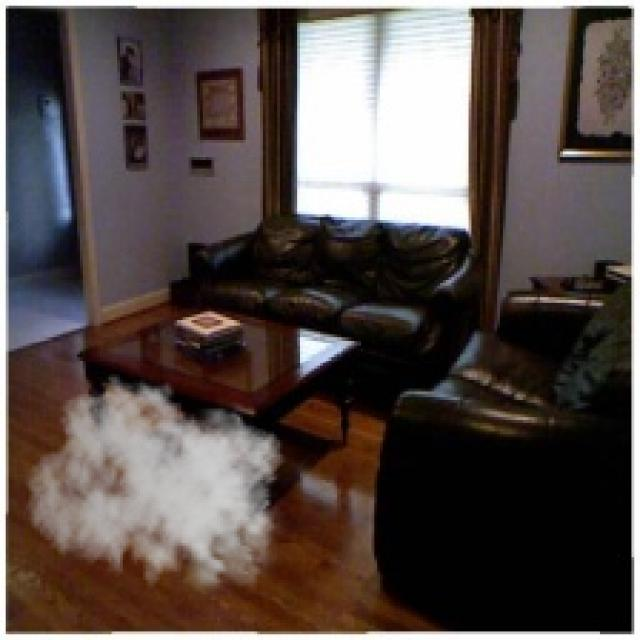smoke: (26, 374, 291, 603)
